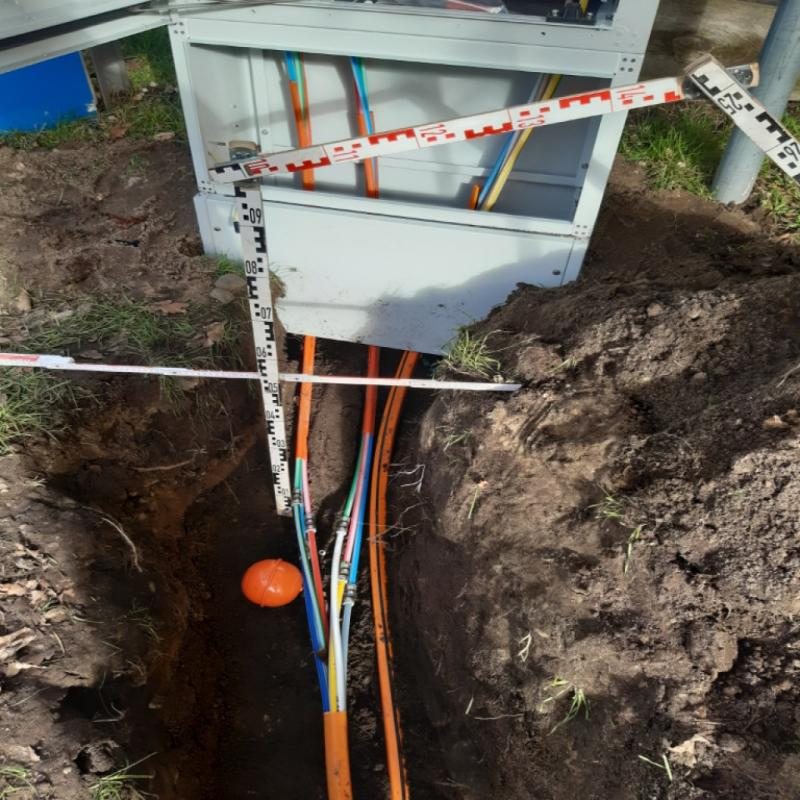Kugelmarker: (242, 558, 303, 606)
Orang-Speednetrohrchen: (369, 350, 419, 800), (313, 647, 352, 800), (290, 336, 319, 533)
